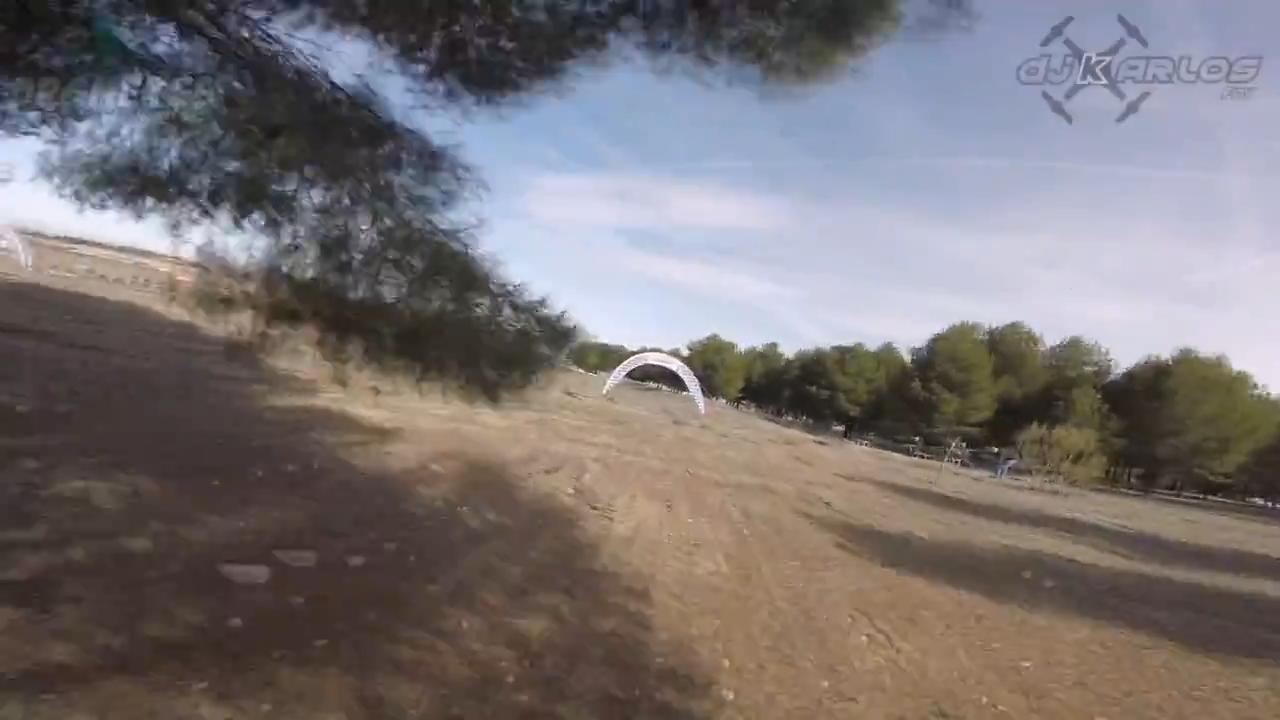gate: (603, 352, 707, 422)
